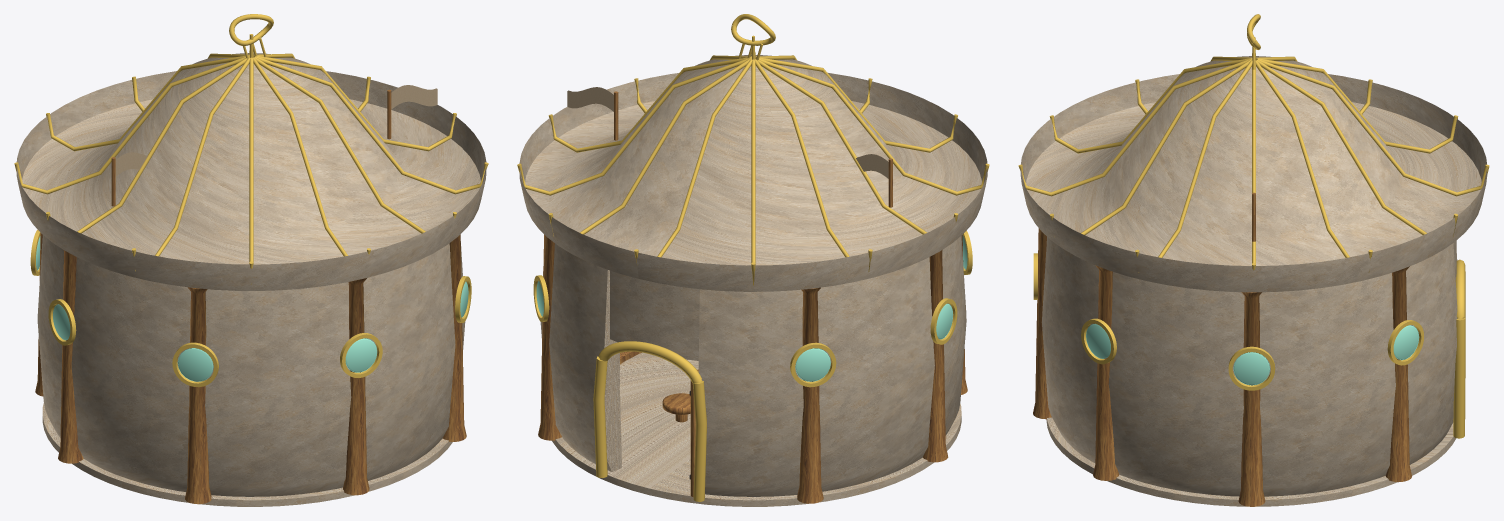
Rendered from 04_Archivo_Rotonda.obj.
3 views of the same model, side by side, from view 1: azimuth 30°, elevation 25°; view 2: azimuth 150°, elevation 25°; view 3: azimuth 270°, elevation 25° (orthographic).
Visible parts, largest first — view 1: Cubierta_desmontable, Cuerpo_abombado_con_interior, Pilares_y_oculos, Suelo, Arquitectura_del_bioma, Remate_elemental; view 2: Cubierta_desmontable, Cuerpo_abombado_con_interior, Suelo, Pilares_y_oculos, Dintel_curvo, Entrada_arqueada, Arquitectura_del_bioma, Remate_elemental, Mobiliario_interior, Puerta_Pivote_Y; view 3: Cubierta_desmontable, Cuerpo_abombado_con_interior, Pilares_y_oculos, Suelo, Entrada_arqueada.
Part boxes in pixels (x1,y1,x2,y2): Cubierta_desmontable: [14, 51, 488, 290]; Cuerpo_abombado_con_interior: [37, 235, 465, 496]; Pilares_y_oculos: [30, 229, 471, 504]; Suelo: [42, 403, 452, 506]; Arquitectura_del_bioma: [111, 85, 437, 206]; Remate_elemental: [229, 14, 273, 58]; Cubierta_desmontable: [517, 52, 989, 291]; Cuerpo_abombado_con_interior: [540, 236, 966, 496]; Suelo: [552, 352, 961, 506]; Pilares_y_oculos: [533, 230, 972, 503]; Dintel_curvo: [610, 270, 699, 360]; Entrada_arqueada: [593, 341, 706, 501]; Arquitectura_del_bioma: [567, 87, 892, 207]; Remate_elemental: [731, 14, 775, 60]; Mobiliario_interior: [662, 393, 690, 422]; Puerta_Pivote_Y: [689, 369, 698, 497]; Cubierta_desmontable: [1018, 53, 1489, 292]; Cuerpo_abombado_con_interior: [1041, 237, 1457, 496]; Pilares_y_oculos: [1033, 228, 1424, 506]; Suelo: [1046, 417, 1456, 506]; Entrada_arqueada: [1453, 259, 1465, 438].
Bounding box in the file's own units: 7.67 × 7.22 × 7.67.
